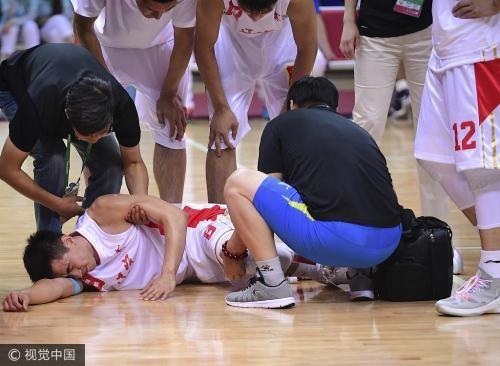falling: (13, 183, 371, 306)
